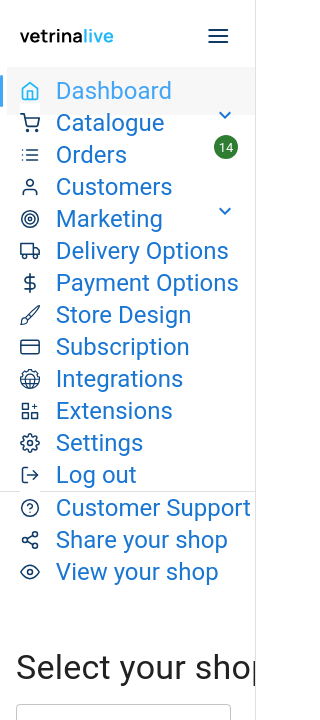
Test case: Sidebar › render sidebar and display app logo and selec shop
The image size is (320, 720).
Expected: the picture with alt text "logo" is shown, x1=20 y1=24 x2=114 y2=48
Click the button with test id "sidebar-button" at [219, 36], box x1=206 y1=24 x2=231 y2=48
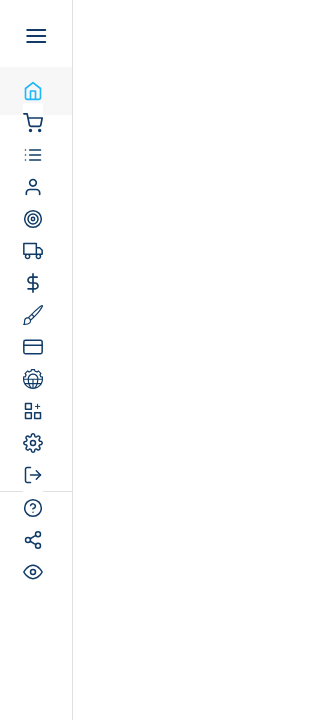
Click the button with test id "sidebar-button" at [36, 36], box x1=24 y1=24 x2=48 y2=48
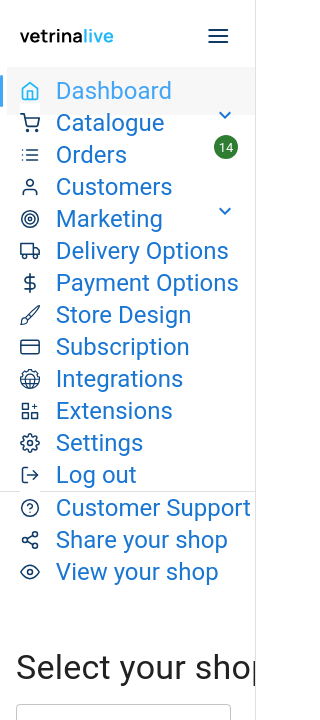
Click the button with test id "sidebar-button" at [219, 36], box x1=206 y1=24 x2=231 y2=48
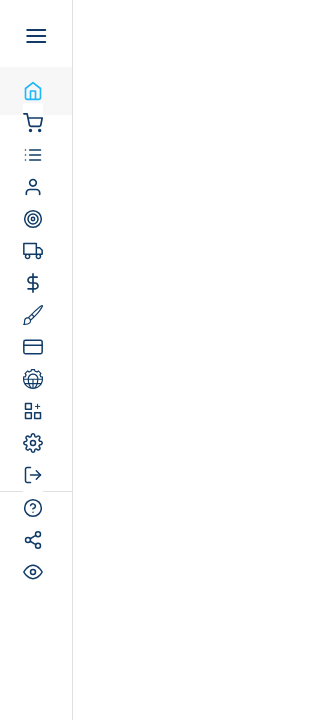
Click the button with test id "sidebar-button" at [36, 36], box x1=24 y1=24 x2=48 y2=48
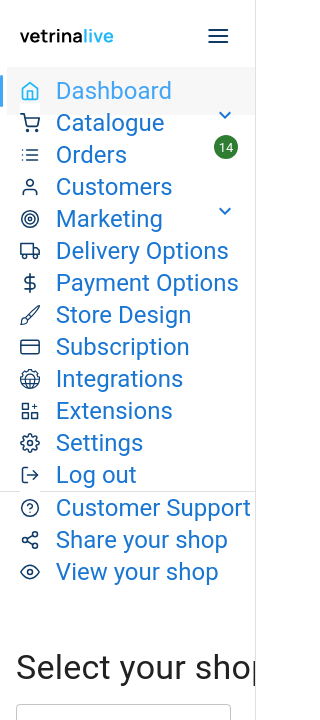
Expected: the picture with alt text "logo" is shown, x1=20 y1=24 x2=114 y2=48
